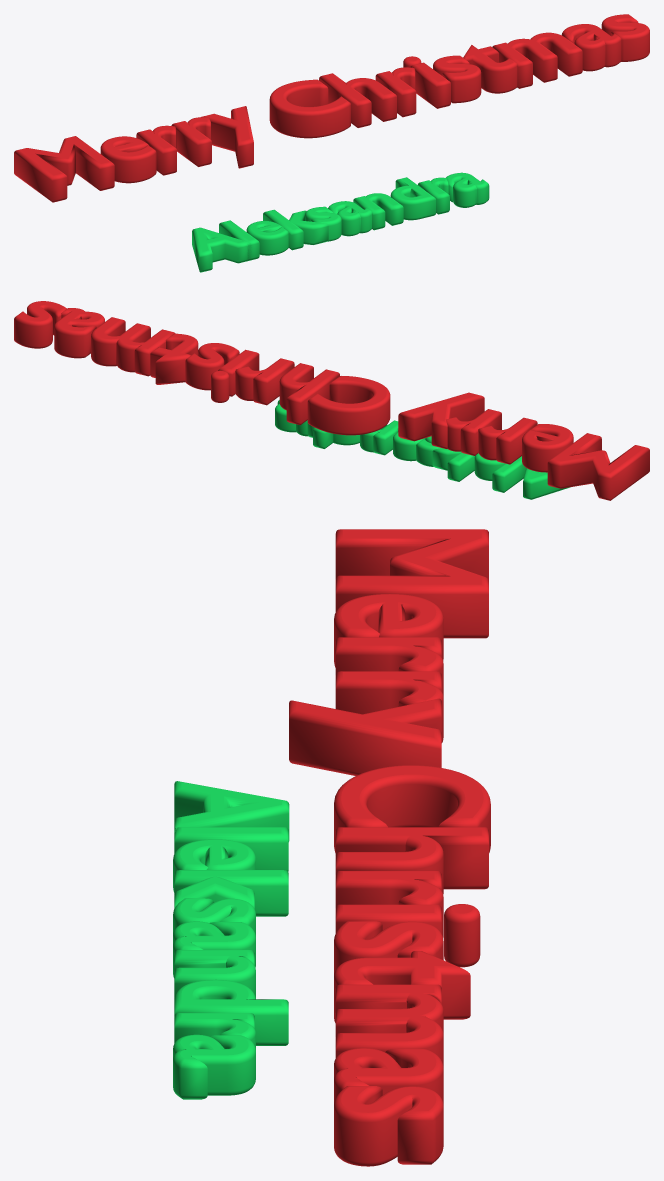
The model's file is Alex.glb.
The picture shows the model from 3 angles, top to bottom: view 1: azimuth 30°, elevation 25°; view 2: azimuth 150°, elevation 25°; view 3: azimuth 270°, elevation 25°; orthographic projection. The views are drawn at different scales.
Visible parts, largest first — view 1: Text, Text.002; view 2: Text, Text.002; view 3: Text, Text.002.
Boxes of the visible parts, left/top/right/bottom form: Text: left=14, top=14, right=649, bottom=202; Text.002: left=192, top=172, right=489, bottom=272; Text: left=14, top=301, right=649, bottom=500; Text.002: left=275, top=400, right=570, bottom=499; Text: left=289, top=529, right=490, bottom=1166; Text.002: left=173, top=781, right=289, bottom=1099.
Size of the model in its own units: 9.52 by 1.4 by 2.17.
